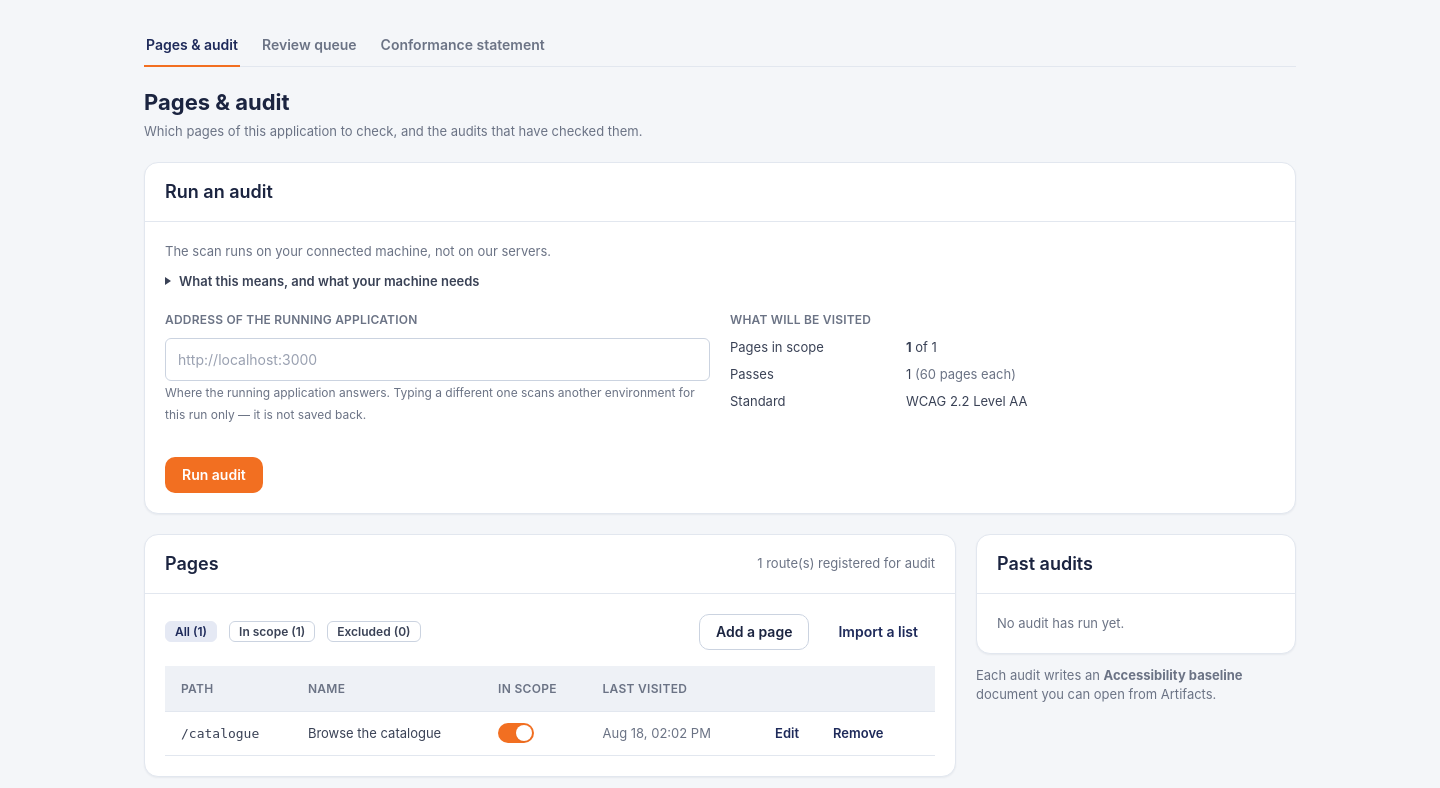
Scenario: S-38 editing one page › removing a page that was audited says it was kept, not removed
Click the button "Remove" at (858, 733), box 822,720 -> 894,746
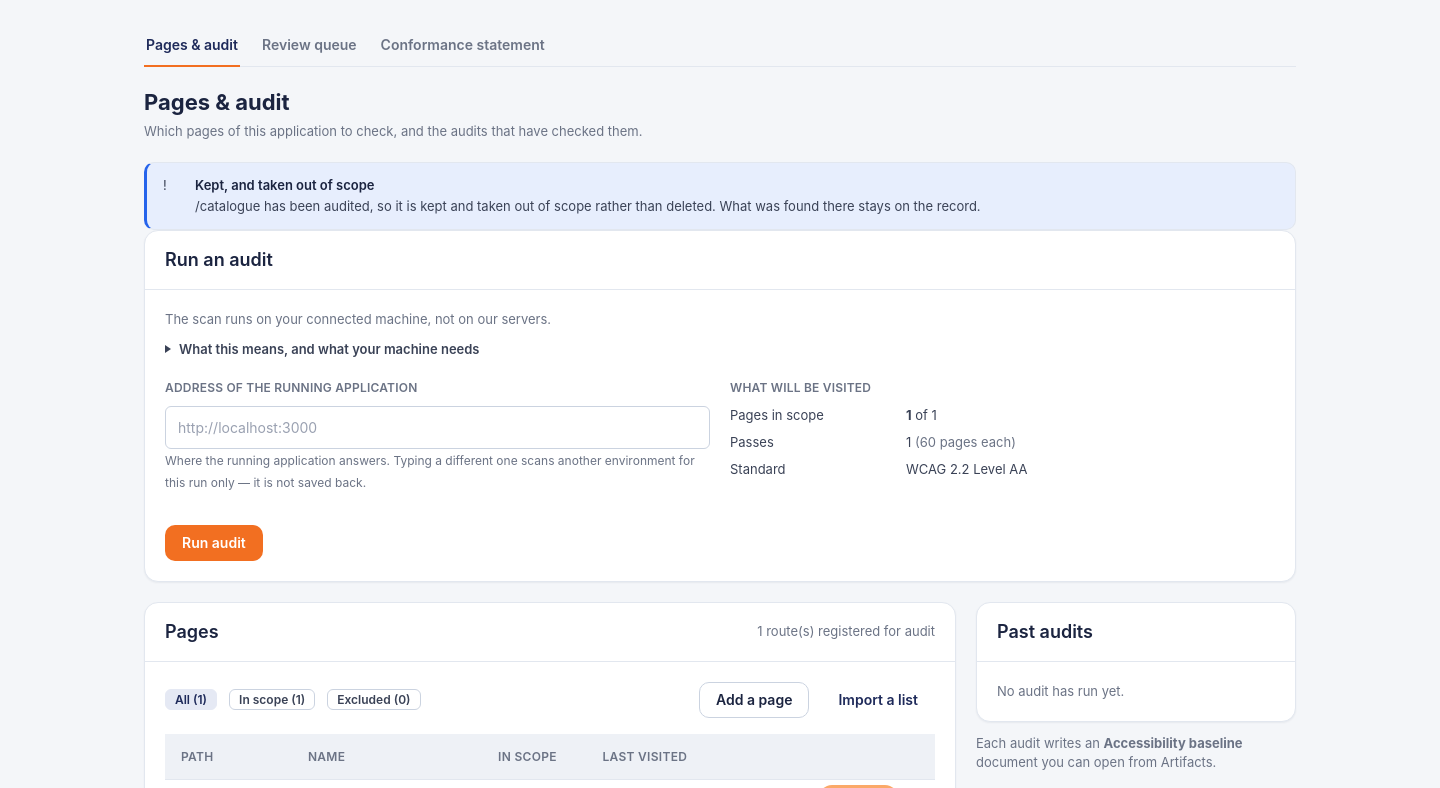
Now the text "Kept, and taken out of scope" is shown, box 195,177 -> 374,193
Now the text "stays on the record" is shown, box 195,198 -> 981,214
